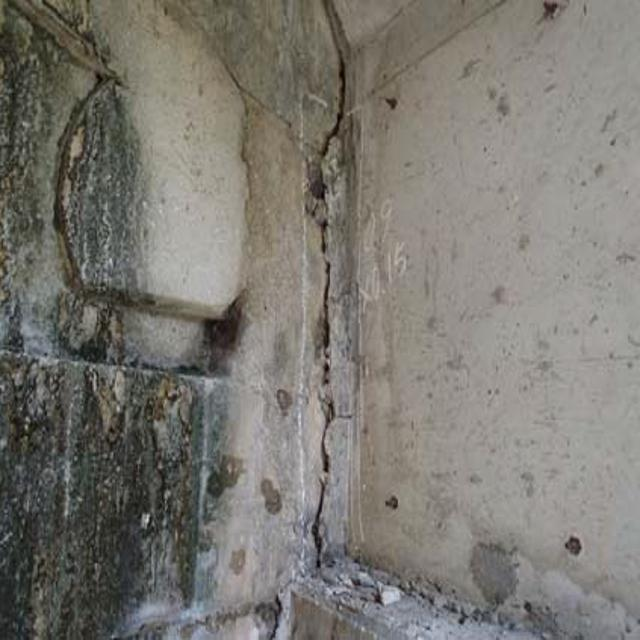crack: (302, 33, 372, 593)
